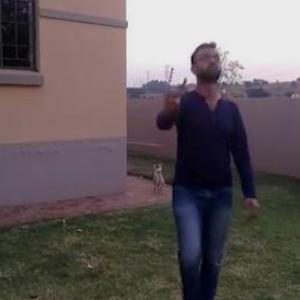takeoff-hand: (154, 87, 181, 116)
